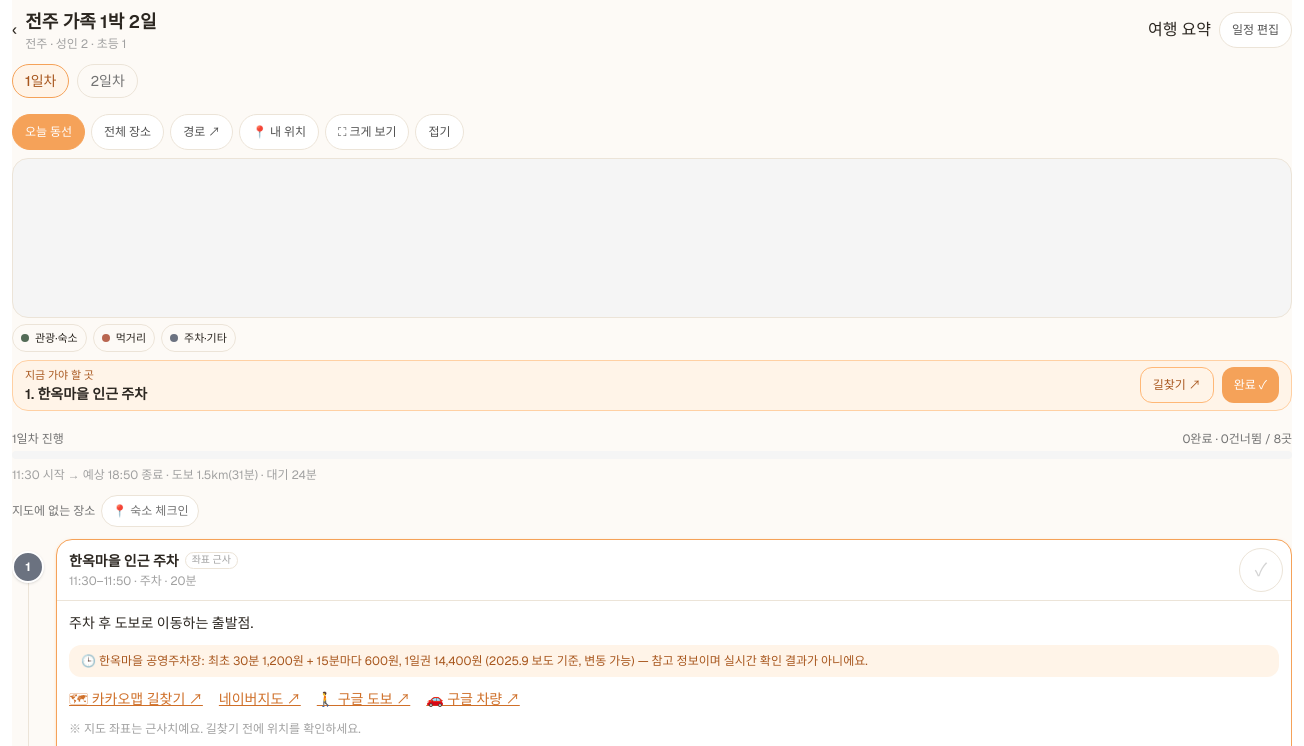
Test case: 지도 위치 지정 › 저장이 실패하면 오류를 알리고 서버 상태로 되돌린다
Step 1. Click the button with aria-label "숙소 체크인 위치 지정" → [150, 510], box [101,494,200,526]
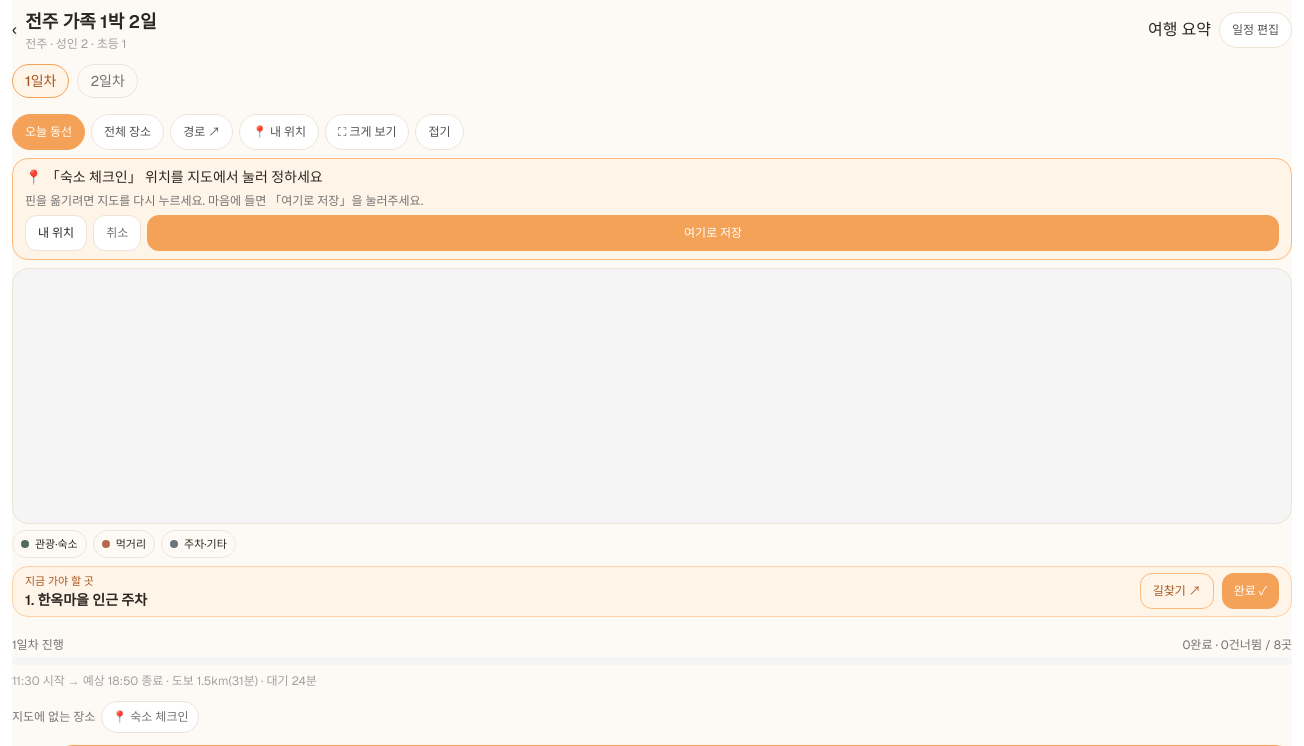
Step 2. Click the button "여기로 저장" → [713, 233], box [147,215,1279,251]
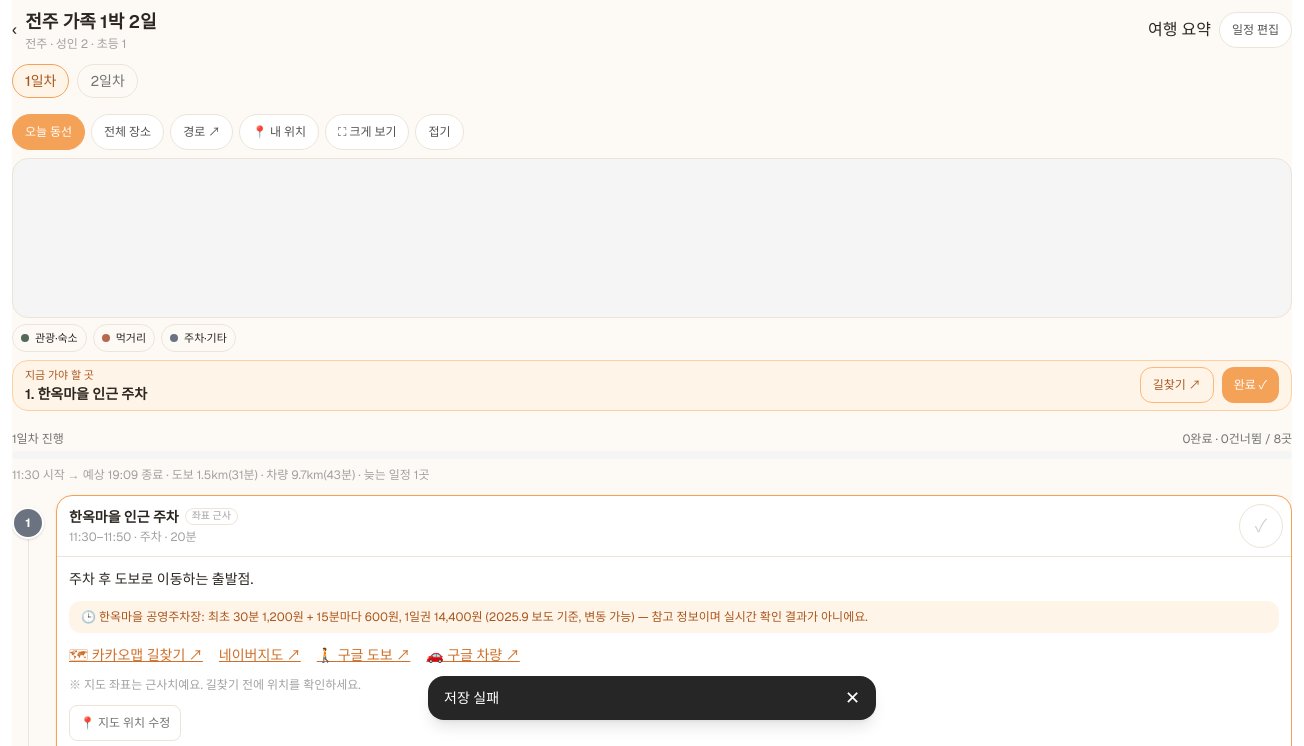
expect the message shows "저장 실패": met, box [444,689,499,707]
